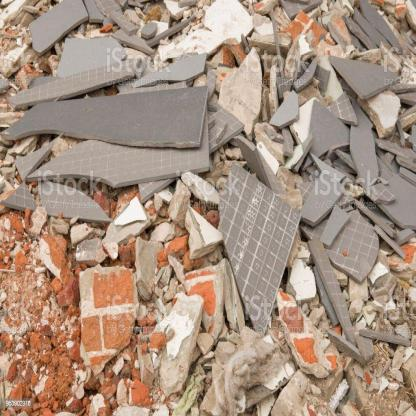brick: (0, 176, 247, 415), (267, 231, 384, 415), (273, 0, 403, 70), (1, 2, 64, 130), (349, 244, 415, 331), (0, 134, 55, 197), (371, 3, 415, 63), (214, 38, 250, 69), (253, 1, 271, 15)
